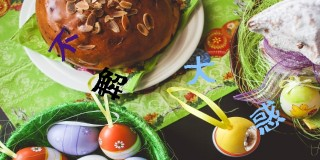不: (47, 28, 78, 62)
大: (185, 54, 216, 82)
惑: (250, 100, 285, 135)
解: (92, 67, 127, 101)
